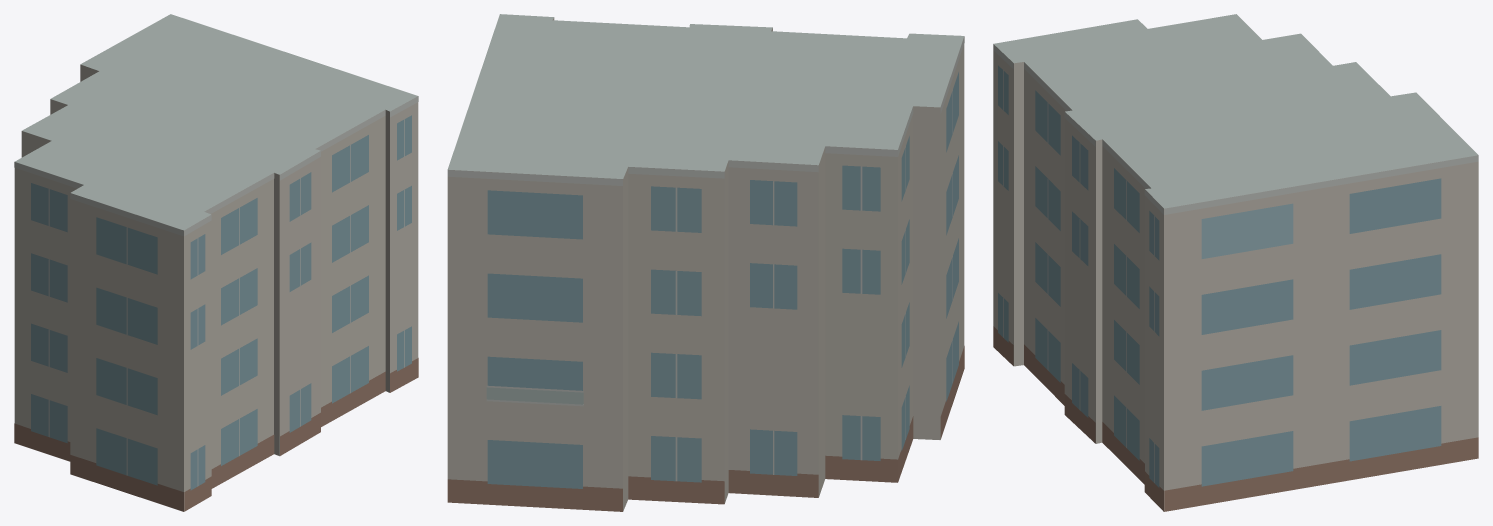
The model's file is survey-upis-32928248.glb.
3 renders of one model, left to right at view 1: azimuth 30°, elevation 25°; view 2: azimuth 150°, elevation 25°; view 3: azimuth 270°, elevation 25°, orthographic. The views are drawn at different scales.
Parts seen in each view (by area): view 1: survey-upis-32928248.tmp; view 2: survey-upis-32928248.tmp; view 3: survey-upis-32928248.tmp.
Boxes of the visible parts, x1,y1,x2,y2 form: survey-upis-32928248.tmp: (14,14,418,511); survey-upis-32928248.tmp: (447,14,964,511); survey-upis-32928248.tmp: (993,14,1478,511).
Size of the model in its own units: 15.98 by 11.6 by 16.84.
